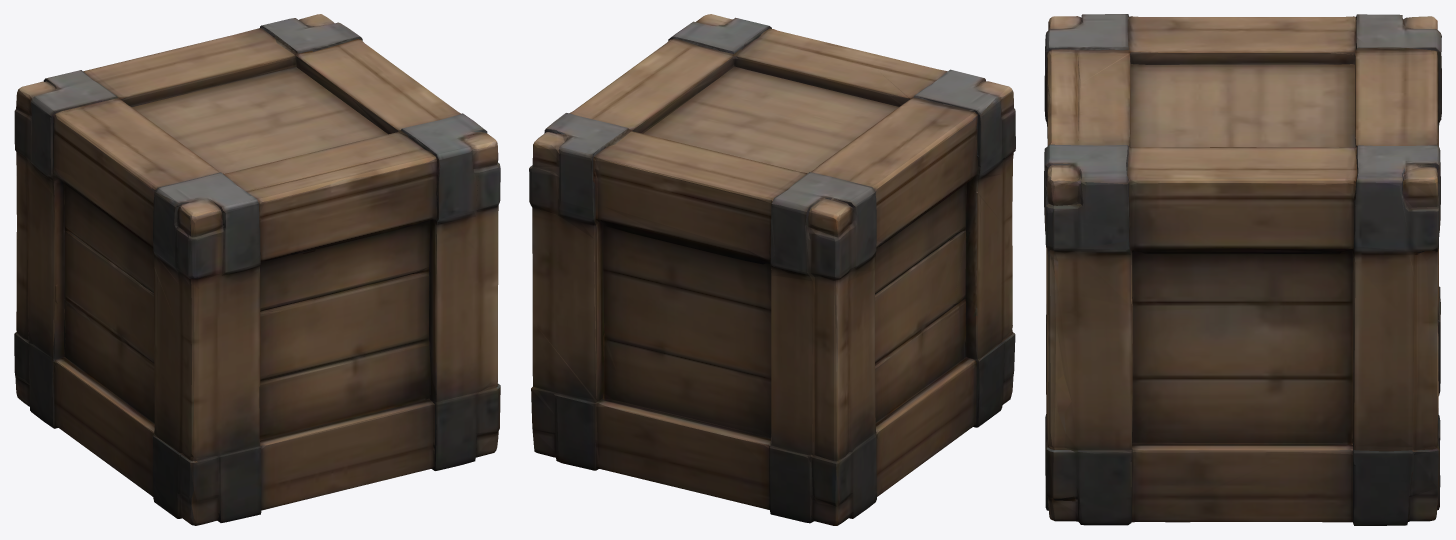
Rendered from crate.glb.
The picture shows the model from 3 angles, left to right: view 1: azimuth 30°, elevation 25°; view 2: azimuth 150°, elevation 25°; view 3: azimuth 270°, elevation 25°; orthographic projection. The views are drawn at different scales.
Parts seen in each view (by area): view 1: geometry_0; view 2: geometry_0; view 3: geometry_0.
Boxes of the visible parts, x1=… form: geometry_0: x1=14, y1=14, x2=500, y2=525; geometry_0: x1=529, y1=14, x2=1015, y2=525; geometry_0: x1=1044, y1=14, x2=1441, y2=525.
Size of the model in its own units: 0.4857 by 0.4683 by 0.485.
1 material, 1 textured.
